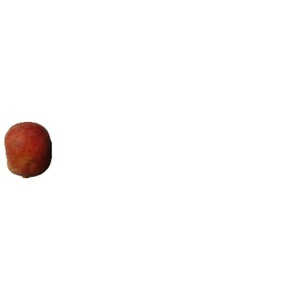pêssego: (5, 122, 52, 179)
